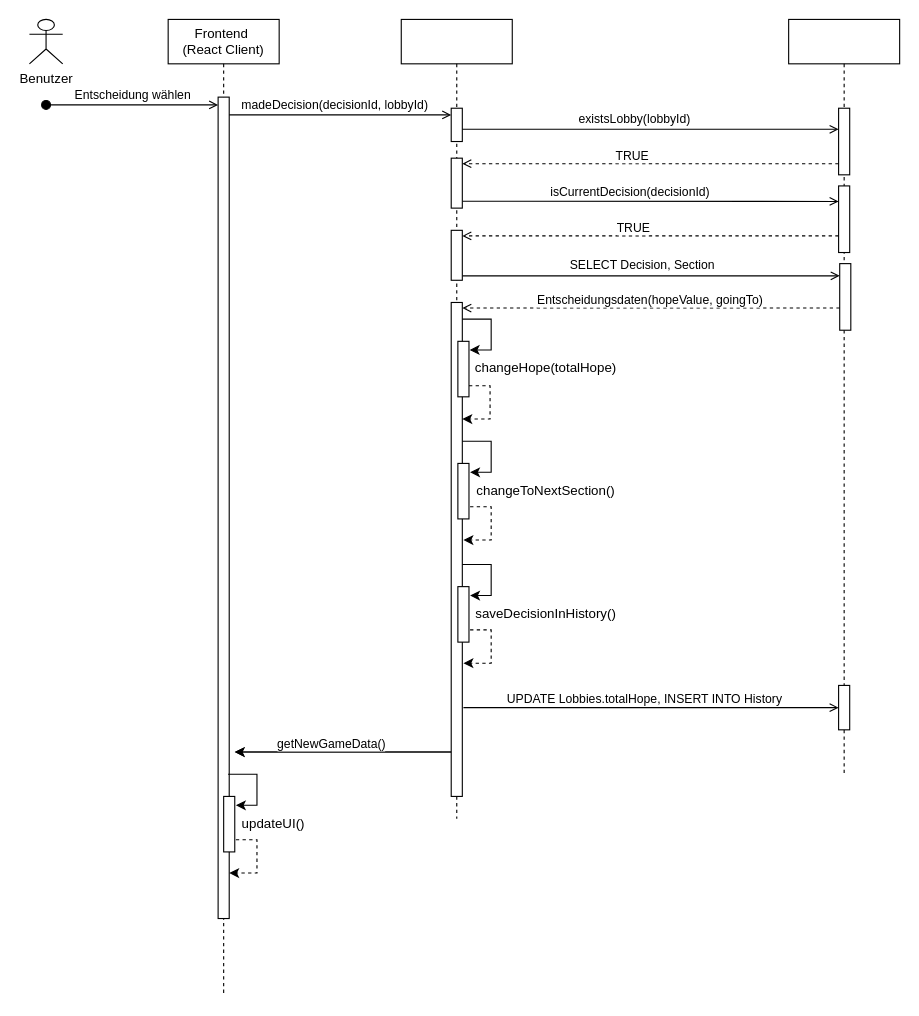
This 919x1016 diagram has some shape labels left out. Here are the shapes that lost their labels. From the top down, the box of each, then its label:
(788, 18, 900, 774): Datenbank
(400, 18, 512, 819): Backend (Server / API)
